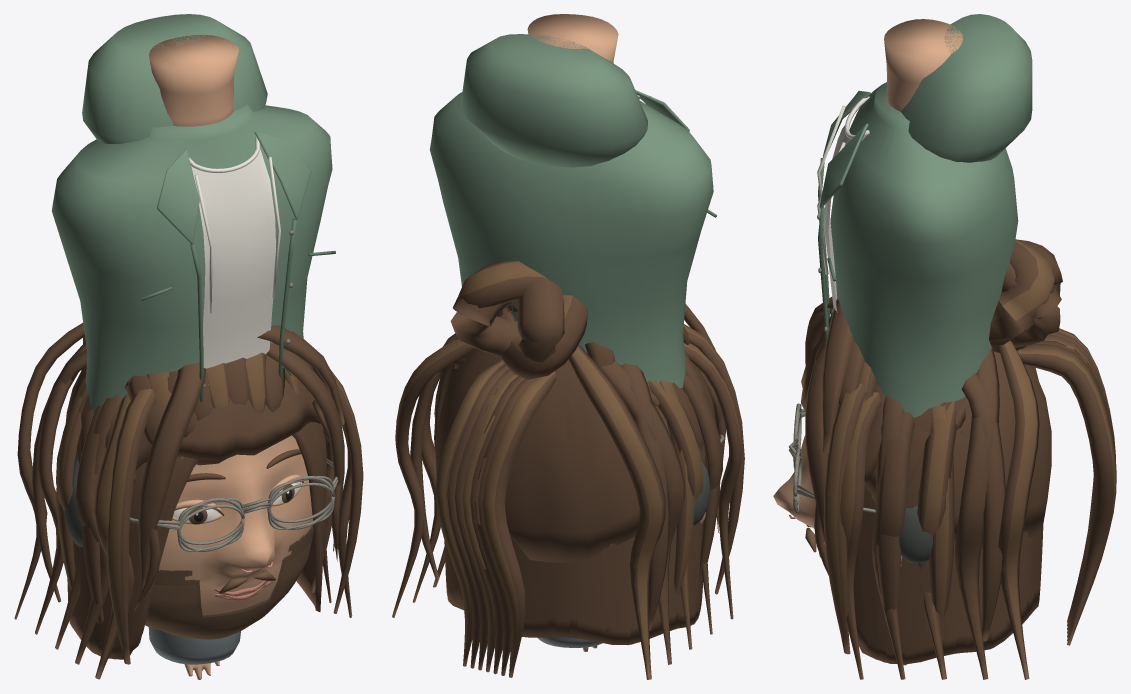
File: characters.glb
The picture shows the model from 3 angles, left to right: view 1: azimuth 30°, elevation 25°; view 2: azimuth 150°, elevation 25°; view 3: azimuth 270°, elevation 25°; orthographic projection.
Visible parts, largest first — view 1: torso, hair_bob, hair_wavy, tee, hoodie_details, face_round, hair_curly, neck, hair_fluffy, beard_short_angular, collar, thigh (+12 smaller); view 2: torso, hair_wavy, hair_curly, hair_ponytail, hair_bob, hoodie_details, hair_bun, neck, hair_fluffy, headphones; view 3: torso, hair_wavy, hair_bob, hoodie_details, hair_ponytail, hair_curly, hair_bun, neck, hair_side-part, collar, face_round, headphones (+4 smaller).
Part boxes in pixels (left/top/right/bottom): torso: left=52, top=104, right=332, bottom=411; hair_bob: left=32, top=343, right=363, bottom=664; hair_wavy: left=14, top=323, right=352, bottom=679; tee: left=189, top=137, right=276, bottom=368; hoodie_details: left=82, top=14, right=292, bottom=387; face_round: left=159, top=435, right=312, bottom=586; hair_curly: left=56, top=367, right=328, bottom=485; neck: left=149, top=35, right=238, bottom=126; hair_fluffy: left=75, top=352, right=313, bottom=465; beard_short_angular: left=145, top=525, right=313, bottom=635; collar: left=157, top=131, right=311, bottom=244; thigh: left=148, top=627, right=240, bottom=664; torso: left=429, top=92, right=713, bottom=388; hair_wavy: left=392, top=337, right=741, bottom=679; hair_curly: left=435, top=339, right=715, bottom=562; hair_ponytail: left=435, top=359, right=556, bottom=677; hair_bob: left=410, top=304, right=744, bottom=644; hoodie_details: left=461, top=34, right=651, bottom=167; hair_bun: left=450, top=261, right=720, bottom=532; neck: left=527, top=14, right=618, bottom=63; hair_fluffy: left=443, top=326, right=703, bottom=548; headphones: left=693, top=462, right=710, bottom=526; torso: left=830, top=82, right=1018, bottom=417; hair_wavy: left=840, top=341, right=1043, bottom=679; hair_bob: left=805, top=296, right=1043, bottom=664; hoodie_details: left=817, top=14, right=1032, bottom=314; hair_ponytail: left=1017, top=328, right=1116, bottom=645; hair_curly: left=801, top=343, right=1051, bottom=549; hair_bun: left=814, top=239, right=1062, bottom=575; neck: left=884, top=19, right=962, bottom=111; hair_side-part: left=822, top=298, right=884, bottom=453; collar: left=819, top=91, right=871, bottom=208; face_round: left=773, top=435, right=825, bottom=545; headphones: left=899, top=487, right=932, bottom=563.
Bounding box in the file's own units: 0.526 × 1.17 × 0.5818.
